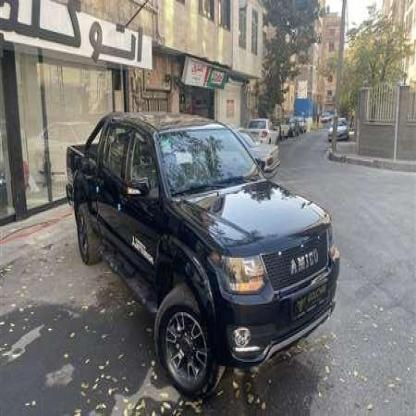Car: (63, 109, 335, 394), (226, 123, 278, 183), (248, 118, 277, 145), (330, 117, 350, 144), (276, 114, 291, 139), (292, 118, 300, 136), (298, 118, 306, 132)
